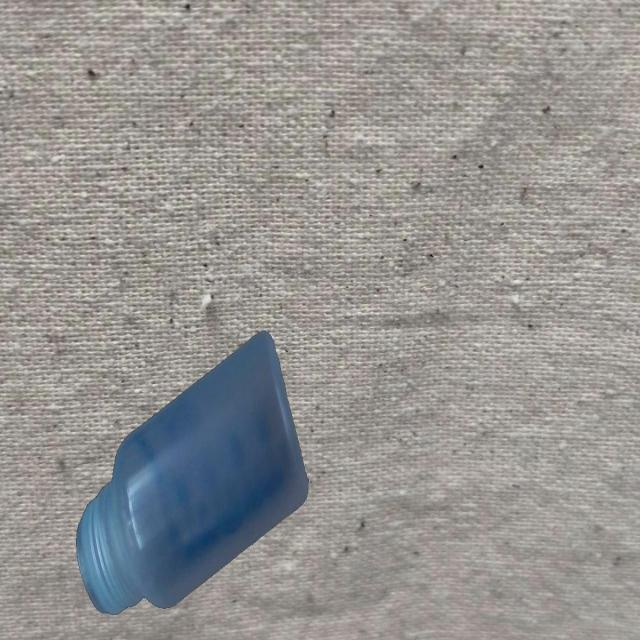bottle: (74, 326, 310, 620)
